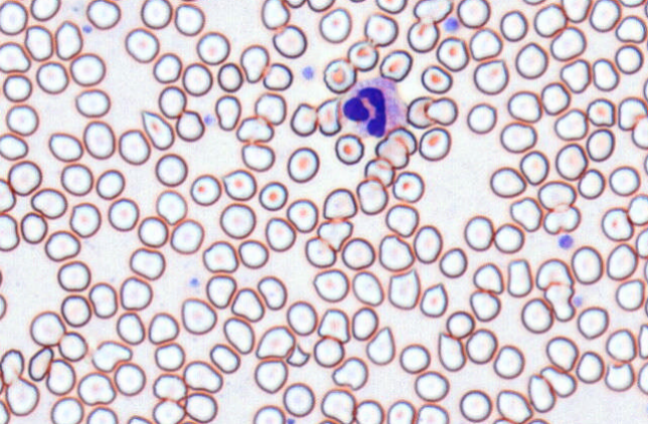GRAN: (340, 78, 408, 140)
PLT: (557, 234, 576, 250), (301, 64, 316, 80), (443, 19, 459, 33), (572, 295, 586, 307), (202, 114, 214, 126), (82, 22, 93, 34), (189, 277, 199, 288)
RBC: (180, 297, 217, 334), (219, 202, 256, 239), (378, 233, 414, 271), (5, 376, 39, 416), (255, 325, 295, 359), (387, 268, 420, 309), (549, 25, 586, 61), (141, 110, 174, 150), (182, 360, 222, 393), (29, 310, 65, 346), (473, 58, 508, 95), (514, 41, 548, 79), (77, 372, 116, 405), (82, 120, 115, 159), (570, 245, 603, 284), (7, 159, 42, 195), (124, 27, 159, 63), (322, 57, 356, 94), (331, 356, 368, 390), (312, 268, 349, 302), (356, 176, 388, 215), (253, 358, 288, 393), (320, 388, 355, 423), (170, 218, 204, 254), (69, 52, 105, 86), (496, 389, 532, 423), (535, 258, 572, 291), (286, 146, 319, 183), (554, 143, 587, 180), (435, 36, 469, 71), (230, 287, 264, 322), (363, 12, 398, 46), (272, 24, 307, 58), (316, 218, 352, 251), (202, 240, 238, 273), (520, 297, 553, 333), (129, 247, 165, 280), (318, 7, 351, 43), (118, 128, 150, 165), (539, 365, 576, 397), (499, 121, 536, 153), (537, 180, 575, 211), (223, 316, 254, 354), (365, 326, 395, 365), (239, 44, 269, 83), (412, 224, 442, 263), (196, 31, 230, 65), (385, 203, 419, 237), (341, 236, 375, 270), (113, 361, 146, 396), (154, 152, 187, 187), (418, 126, 451, 161), (509, 196, 542, 231), (465, 328, 497, 364), (44, 229, 80, 261), (489, 166, 525, 198), (545, 335, 577, 371), (30, 187, 67, 218), (606, 243, 637, 280), (235, 114, 274, 143), (375, 136, 409, 169), (406, 18, 439, 52), (222, 168, 256, 201), (533, 3, 566, 37), (322, 187, 356, 220), (576, 305, 609, 339), (119, 276, 152, 310), (600, 207, 633, 241), (155, 189, 187, 224), (317, 308, 349, 343), (264, 216, 296, 251), (69, 202, 101, 237), (351, 270, 383, 305), (54, 20, 82, 60), (492, 344, 524, 379), (282, 382, 314, 417), (463, 215, 494, 251), (543, 204, 580, 234), (45, 358, 75, 395), (527, 373, 555, 412), (437, 332, 465, 371), (469, 27, 502, 60), (35, 61, 68, 94), (60, 163, 93, 196), (459, 389, 492, 422), (379, 49, 412, 82), (286, 198, 318, 232), (107, 197, 139, 231), (507, 90, 541, 122), (553, 108, 587, 140), (559, 58, 590, 93), (414, 370, 449, 401), (286, 300, 317, 335), (24, 24, 53, 61), (88, 281, 117, 318), (304, 235, 336, 268), (254, 92, 286, 125), (189, 173, 221, 206), (392, 170, 424, 203), (182, 62, 213, 96), (205, 274, 236, 308), (57, 260, 91, 291), (605, 328, 636, 362), (48, 132, 83, 162), (519, 150, 549, 185), (257, 275, 287, 310), (74, 88, 110, 117), (147, 312, 179, 344), (5, 104, 38, 135), (469, 289, 500, 322), (184, 392, 217, 423), (60, 294, 91, 327), (540, 81, 570, 115), (241, 142, 275, 172), (617, 96, 647, 130), (174, 2, 204, 36), (585, 128, 615, 162), (419, 282, 448, 317), (506, 258, 532, 297), (608, 165, 640, 196), (137, 215, 168, 247), (589, 0, 620, 32), (313, 335, 344, 367), (466, 102, 497, 134), (472, 262, 503, 294), (425, 96, 458, 126), (175, 109, 205, 142), (152, 373, 186, 402), (116, 311, 145, 345), (86, 0, 120, 29), (214, 94, 241, 130), (363, 156, 394, 187), (347, 40, 378, 71), (493, 222, 524, 253), (0, 41, 30, 73), (420, 64, 452, 94), (334, 133, 364, 165), (405, 95, 434, 128), (575, 350, 604, 383), (615, 278, 644, 311), (157, 85, 186, 118), (456, 0, 490, 28), (289, 102, 317, 136), (591, 57, 619, 91), (0, 0, 27, 35), (399, 343, 430, 373), (209, 343, 240, 373), (258, 180, 288, 211), (95, 168, 125, 199), (262, 61, 293, 91), (140, 0, 172, 29), (499, 9, 528, 41), (351, 306, 378, 340), (27, 346, 53, 381), (604, 361, 634, 391), (238, 239, 268, 269), (386, 126, 417, 155), (615, 14, 646, 43), (154, 342, 185, 371), (152, 52, 181, 83), (58, 330, 87, 361), (438, 247, 467, 278), (413, 0, 452, 23), (50, 396, 83, 423), (20, 211, 47, 244), (2, 73, 32, 102), (614, 44, 643, 74), (586, 97, 615, 127), (577, 168, 605, 199), (0, 348, 24, 384), (445, 310, 474, 339), (260, 0, 289, 29), (152, 399, 185, 423), (0, 132, 28, 160), (217, 62, 243, 92), (0, 213, 19, 251), (386, 399, 415, 423), (354, 399, 383, 423), (560, 0, 590, 22), (415, 403, 448, 423), (29, 0, 60, 21), (252, 404, 285, 423), (627, 194, 647, 225), (631, 115, 647, 149), (86, 406, 118, 423), (0, 178, 15, 212), (374, 0, 407, 14), (635, 227, 647, 258), (637, 323, 647, 359), (637, 361, 647, 394), (307, 0, 334, 12), (0, 399, 9, 423), (126, 415, 152, 423), (284, 0, 306, 8), (619, 0, 644, 7), (315, 417, 341, 423), (642, 76, 648, 102), (0, 293, 6, 319), (525, 417, 550, 423), (492, 417, 516, 423), (643, 258, 648, 282), (643, 152, 648, 175), (522, 0, 545, 5), (644, 296, 648, 317), (644, 0, 648, 18), (0, 267, 3, 287), (348, 0, 366, 3)
Schistocyte: (542, 282, 578, 324), (89, 341, 135, 372), (316, 95, 346, 139), (286, 345, 312, 367)
